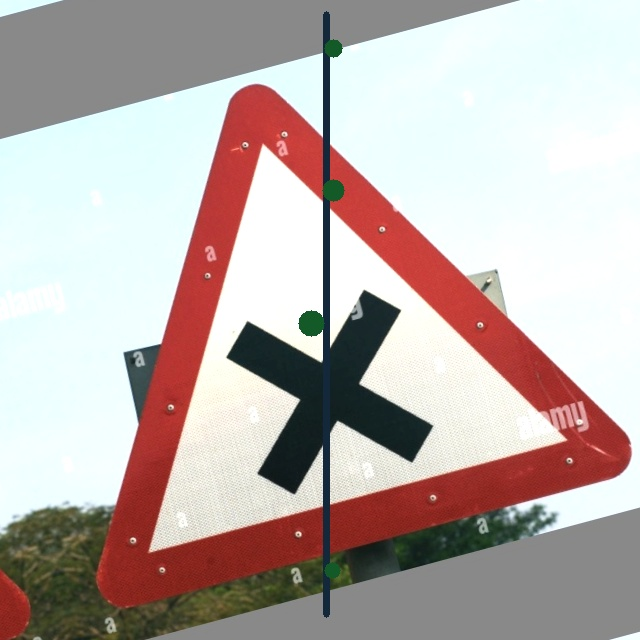Cross_Road: (28, 19, 636, 605)
